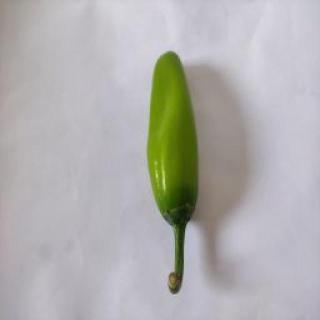Cabai Hijau: (140, 45, 208, 299)
